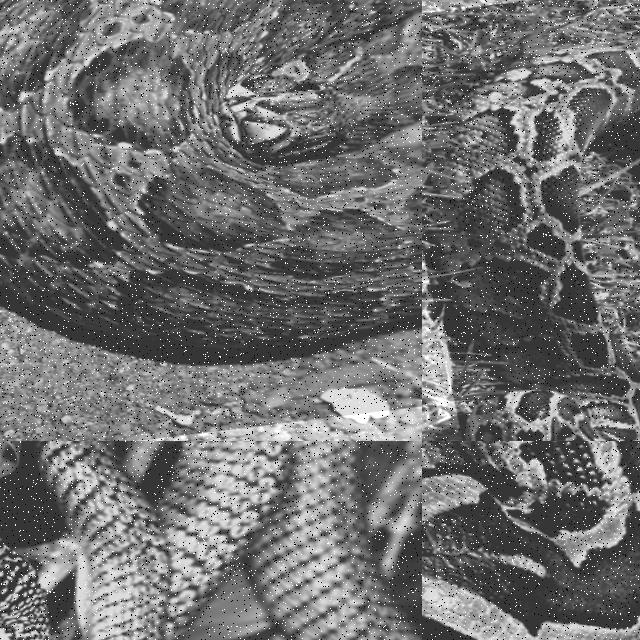Chrysopelea ornata: (33, 441, 421, 639)
Daboia siamensis: (0, 0, 421, 347)
Python bivittatus: (436, 42, 639, 440), (422, 441, 639, 639)
